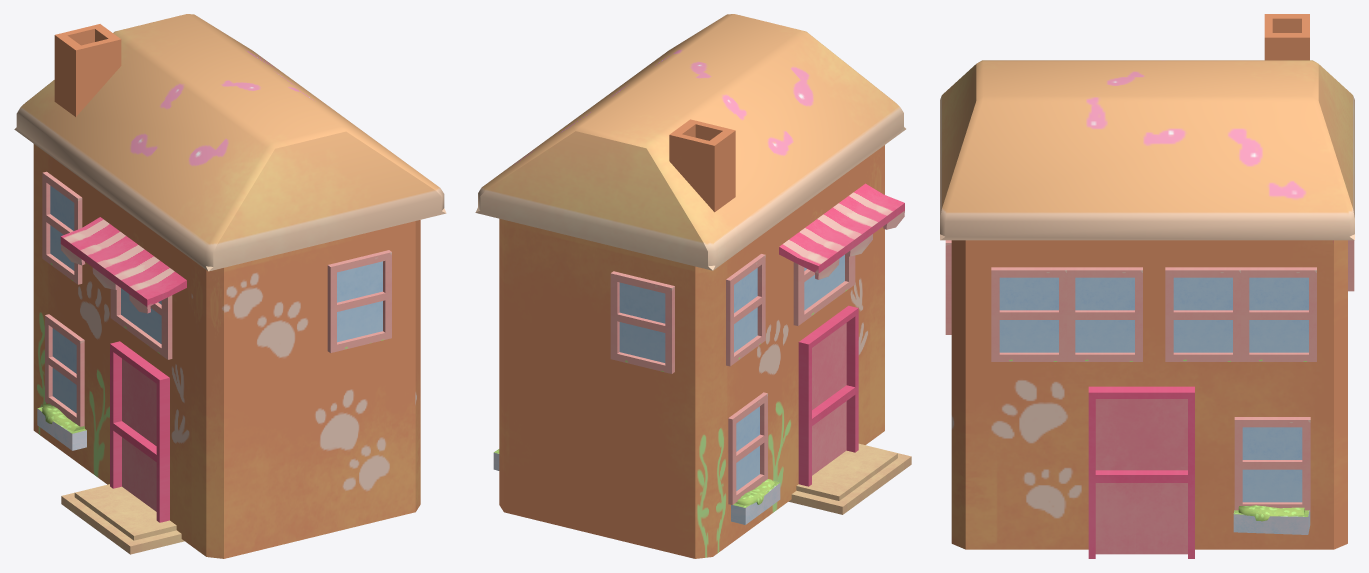
File: Building1.fbx
3 renders of one model, left to right at view 1: azimuth 30°, elevation 25°; view 2: azimuth 150°, elevation 25°; view 3: azimuth 270°, elevation 25°, orthographic. The views are drawn at different scales.
Parts seen in each view (by area): view 1: Building1; view 2: Building1; view 3: Building1.
Boxes of the visible parts, x1,y1,x2,y2 form: Building1: [14, 14, 446, 558]; Building1: [475, 14, 911, 558]; Building1: [940, 14, 1354, 558].
Bounding box in the file's own units: 41.67 × 56.88 × 49.46.
